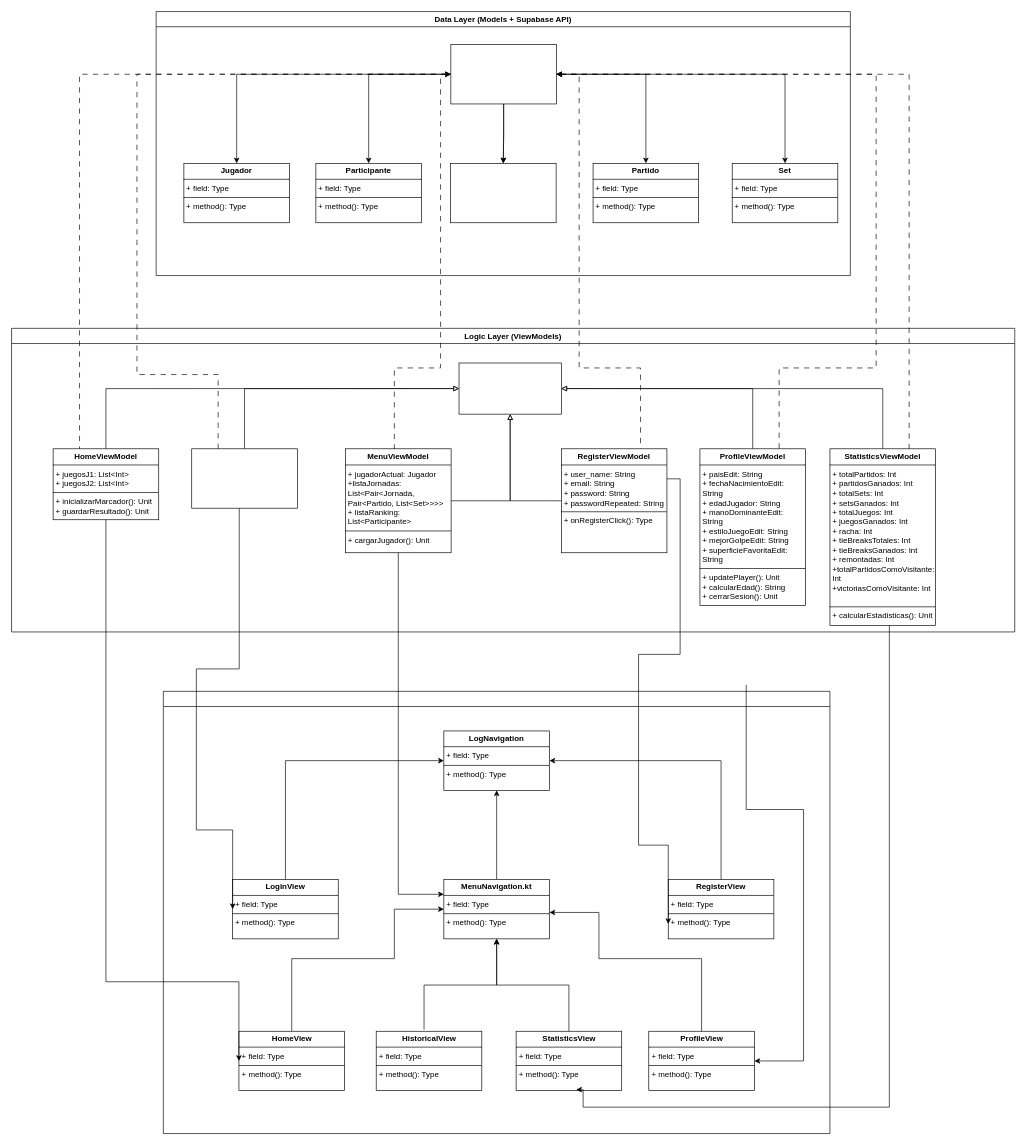
Image size: 1026x1145. Some labels were removed from this diagram. Here are the shapes that lost their labels. From the top down, the centre of each, then its label:
At point (503, 74): "SupabaseManager + field: Type + method(): Type".
At point (503, 193): "Jornada + field: Type + method(): Type".
At point (509, 388): "ViewModel «abstract»".
At point (244, 478): "LoginViewModel + email: String + password: String + onLoginClick(): Unit".
At point (496, 912): "UI Layer (Navigation + Views)".
